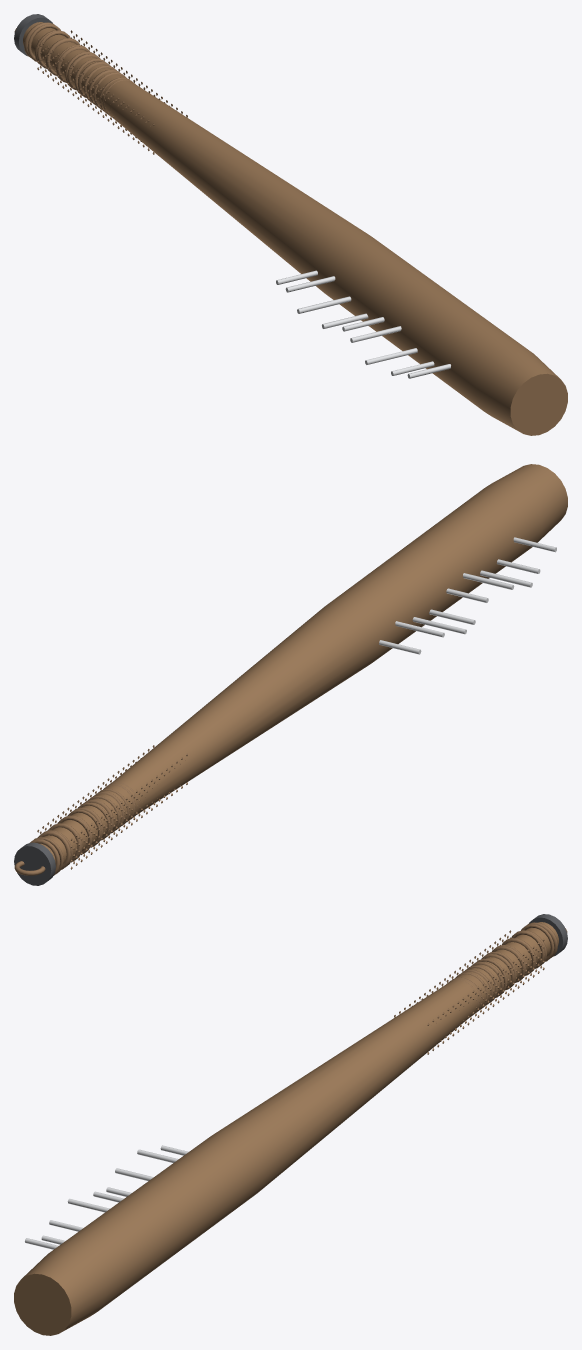
File: nailed-bat.glb
The picture shows the model from 3 angles, top to bottom: view 1: azimuth 30°, elevation 25°; view 2: azimuth 150°, elevation 25°; view 3: azimuth 330°, elevation 25°; orthographic projection.
Visible parts, largest first — view 1: nailed-bat; view 2: nailed-bat; view 3: nailed-bat.
Part boxes in pixels (x1,y1,x2,y2): nailed-bat: (14, 14, 567, 435); nailed-bat: (14, 464, 567, 885); nailed-bat: (14, 914, 567, 1335).
Bounding box in the file's own units: 0.1126 × 0.064 × 0.8651.
